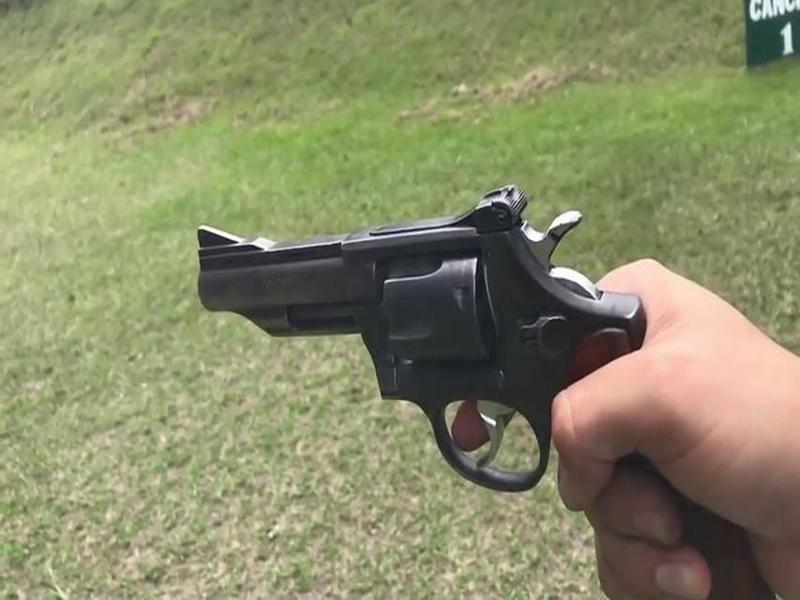Revolver: (187, 157, 668, 530)
